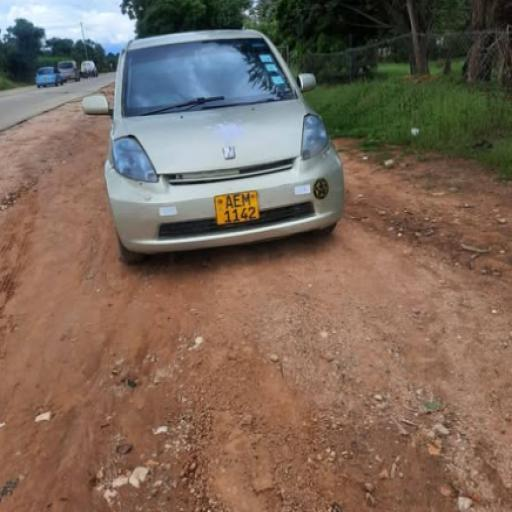number-plates: (217, 190, 260, 223)
